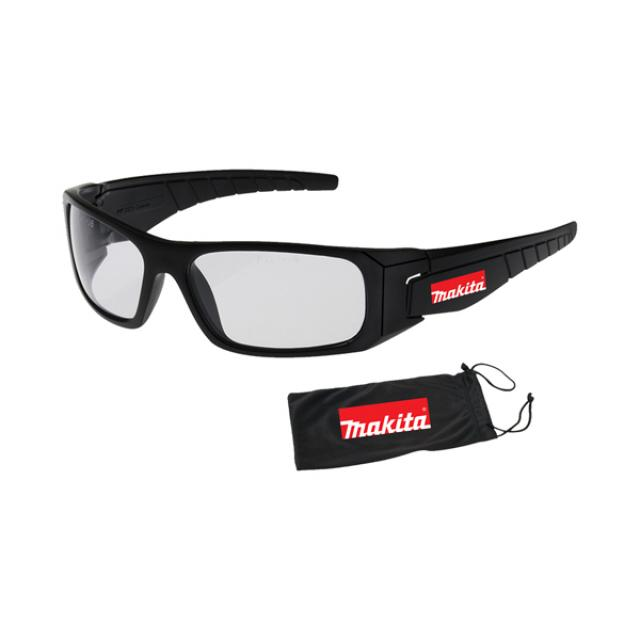Protective Glasses: (28, 154, 594, 364)
